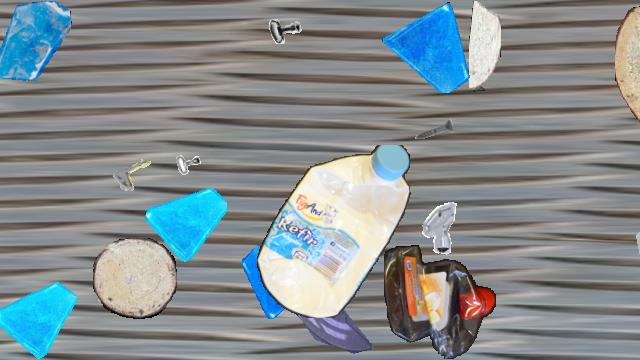glass: (382, 1, 474, 93), (289, 275, 373, 359), (145, 180, 227, 262), (0, 277, 77, 359), (0, 1, 73, 81), (242, 243, 318, 319), (632, 174, 640, 266)
metal: (109, 141, 169, 201), (408, 197, 466, 255), (163, 151, 213, 201), (413, 108, 455, 150), (265, 9, 305, 49)
plastic: (256, 145, 412, 317), (384, 245, 496, 359)
wood: (93, 238, 177, 318), (615, 1, 640, 139), (469, 1, 501, 91)
